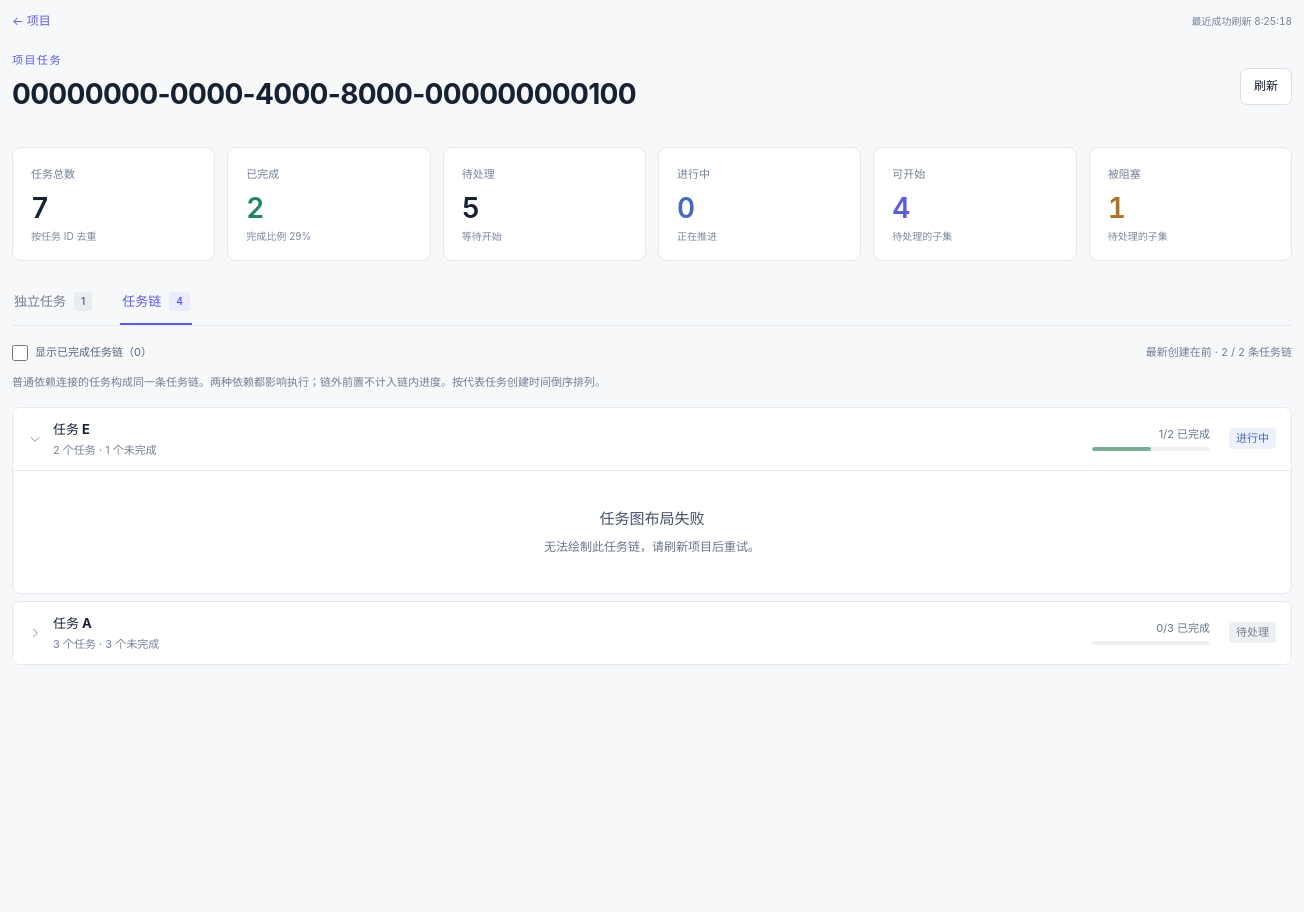
it: project task views › shows waiting tasks in unfinished counts, chain summaries, statistics and standalone rows
Expected: the tab "任务链 4" is shown, x1=120 y1=291 x2=192 y2=325
Expected: the number of elements with class "stat" is 6, x1=12 y1=147 x2=215 y2=261; x1=227 y1=147 x2=431 y2=261; x1=443 y1=147 x2=646 y2=261; x1=658 y1=147 x2=861 y2=261; x1=873 y1=147 x2=1077 y2=261; x1=1089 y1=147 x2=1292 y2=261
Step 1. Click the tab "独立任务 1" → (53, 308), box x1=12 y1=291 x2=94 y2=325
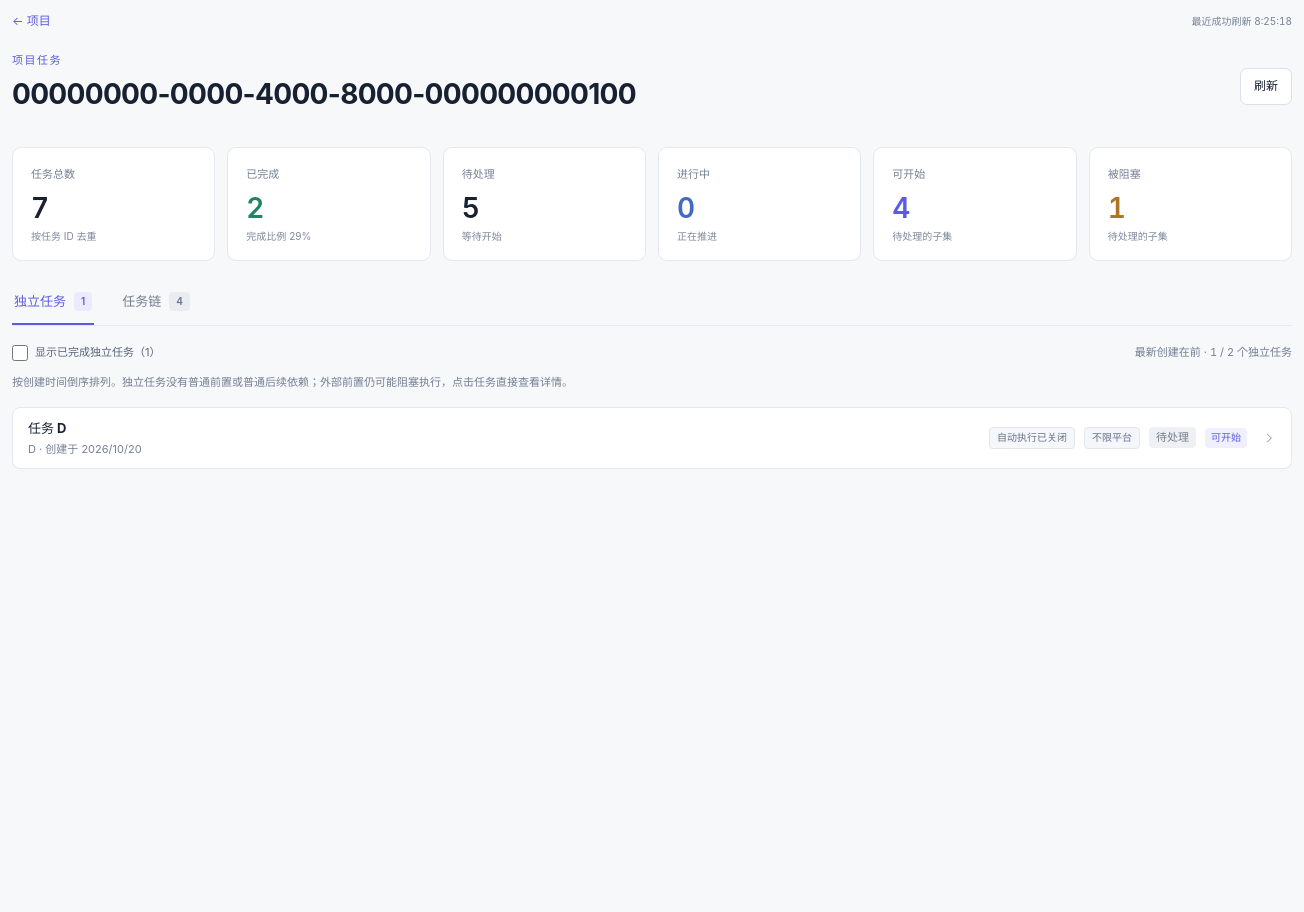
Step 2. Click the checkbox labelled "显示已完成独立任务（1）" → (20, 353), box x1=12 y1=345 x2=28 y2=361
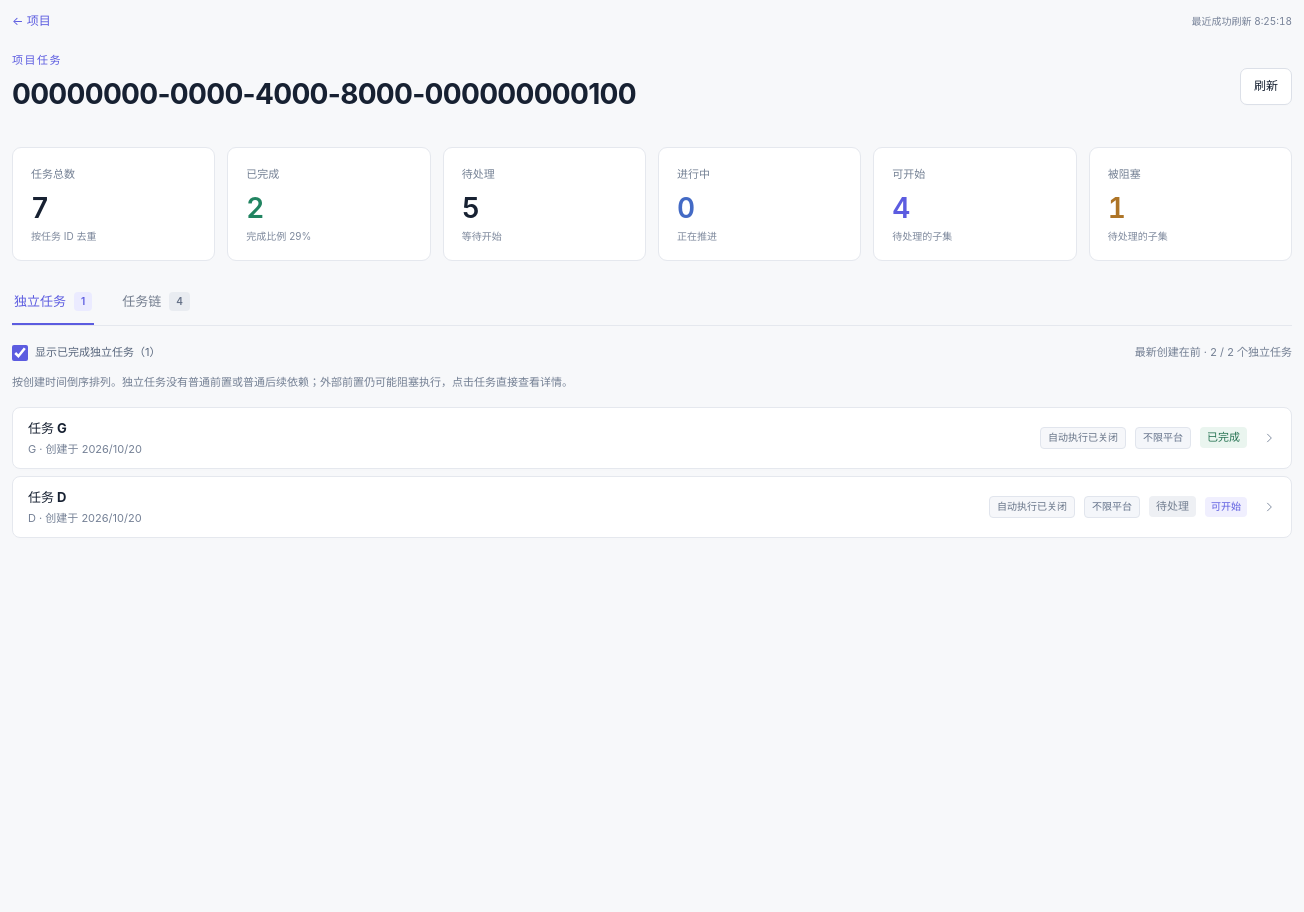
Expected: the button with id "standalone-task-G" is shown, x1=12 y1=407 x2=1292 y2=469
